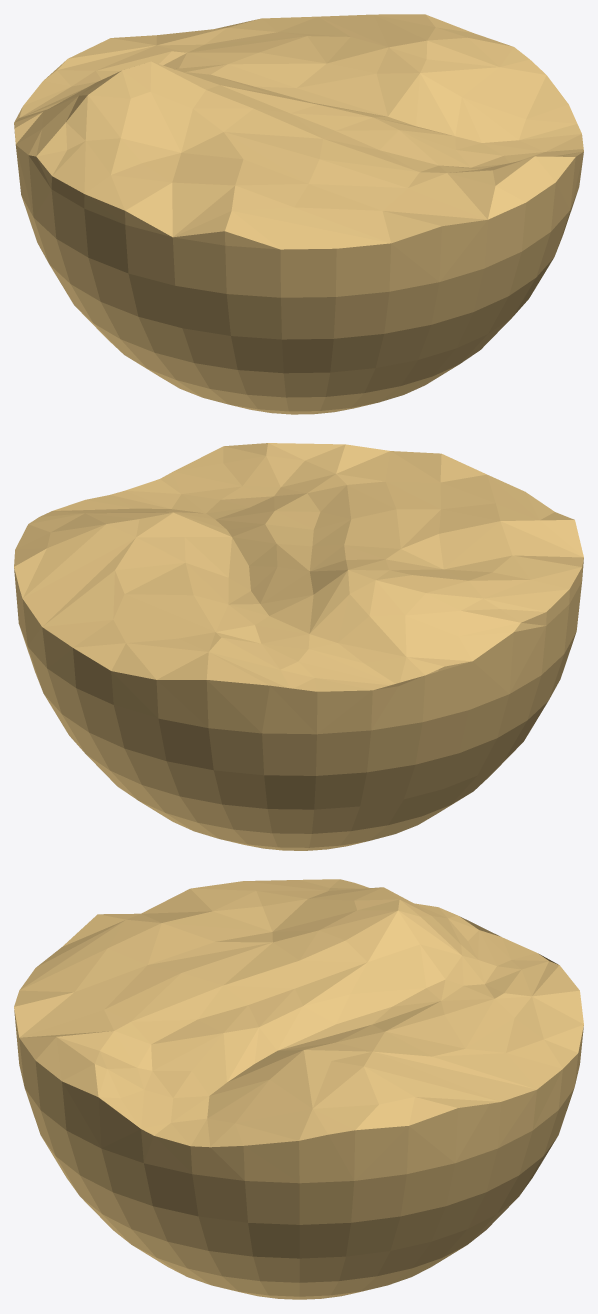
File: desert.dae
3 views of the same model, one above another, from view 1: azimuth 30°, elevation 25°; view 2: azimuth 150°, elevation 25°; view 3: azimuth 270°, elevation 25° (orthographic).
Parts seen in each view (by area): view 1: Sphere; view 2: Sphere; view 3: Sphere.
Boxes of the visible parts, x1,y1,x2,y2 form: Sphere: (14,14,583,414); Sphere: (14,443,583,850); Sphere: (14,879,583,1299).
Bounding box in the file's own units: 2 × 1.99 × 1.21.
